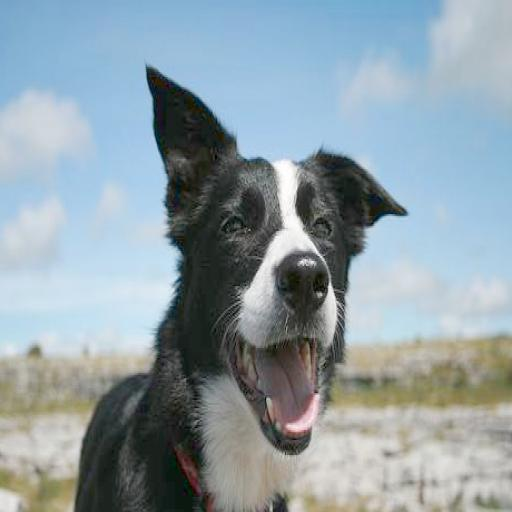dog_face: (143, 72, 412, 465)
